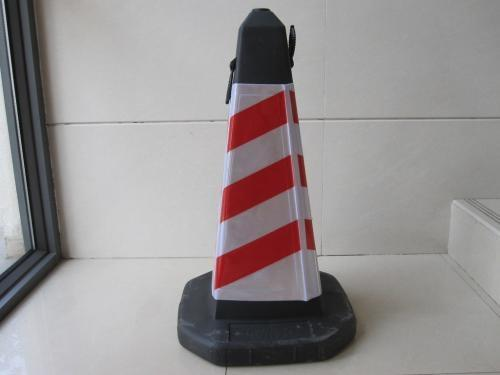cone_barrel: (183, 4, 346, 360)
